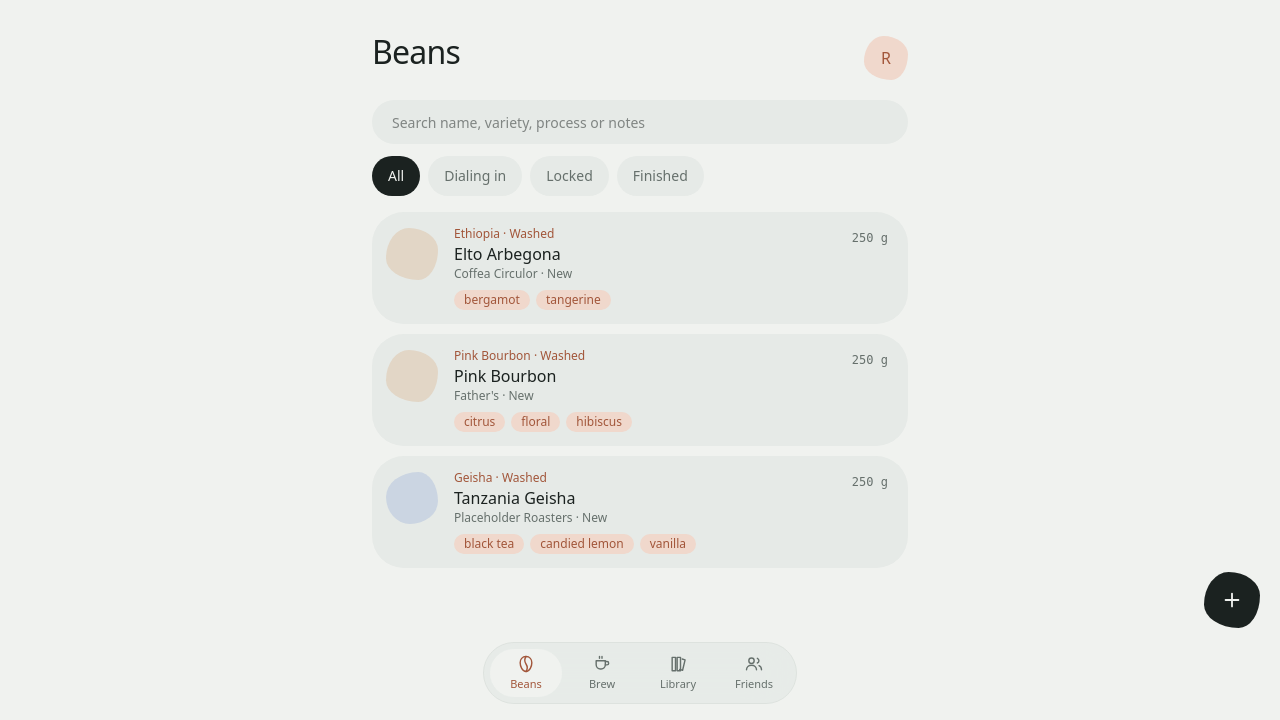
it: Beans search › says when nothing matches and lets you clear the search
This screenshot has width=1280, height=720.
Type "jasmine" into the search field named "Search your beans" at point(640, 122), box [372,100,908,144]
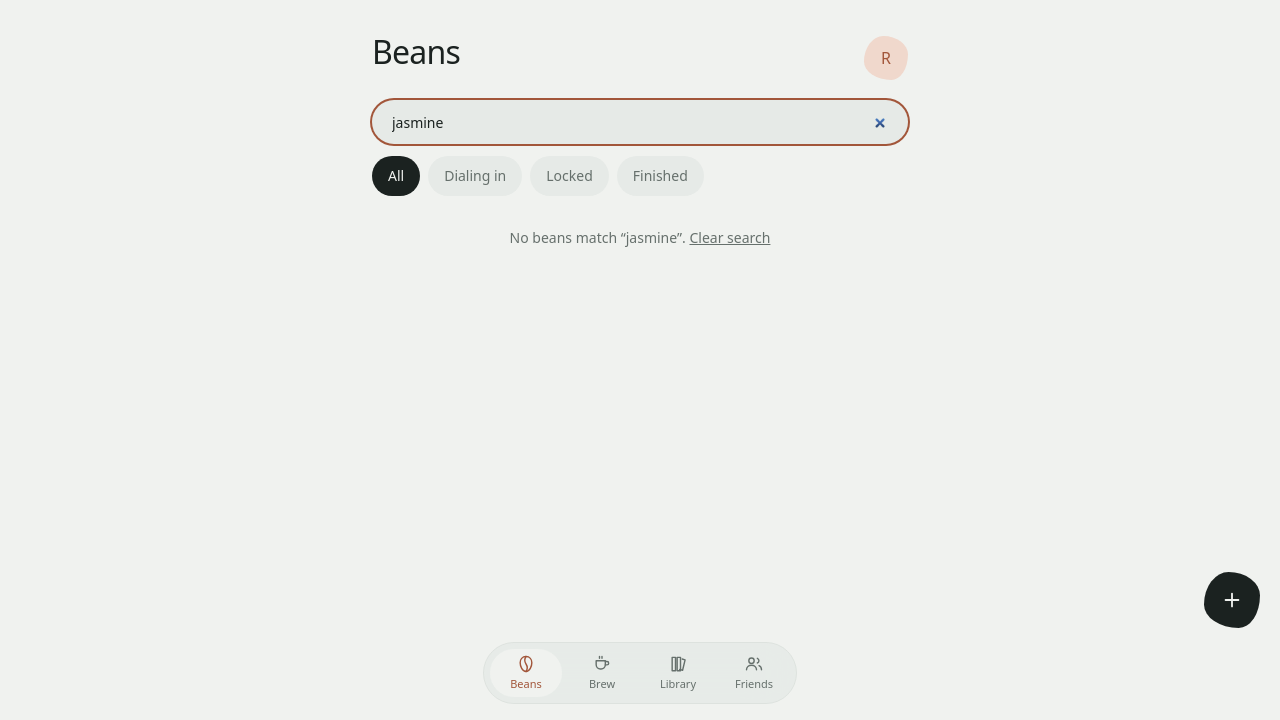
Check: the text "No beans match “jasmine”. Clear search" is shown, box [510,228,770,248]
Click the button "Clear search" at point(730, 238), box [690,228,770,248]
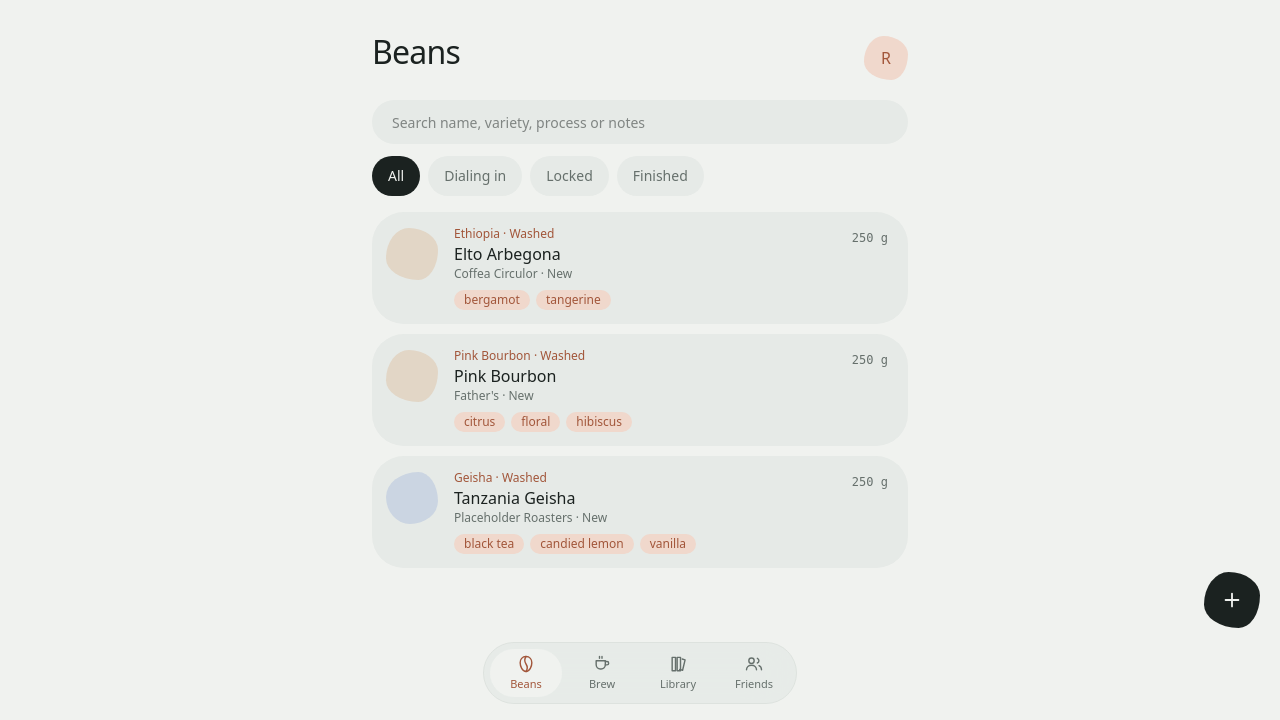
Check: the text "Pink Bourbon" is shown, box [454,365,556,387]
Check: the search field named "Search your beans" is empty, box [372,100,908,144]
